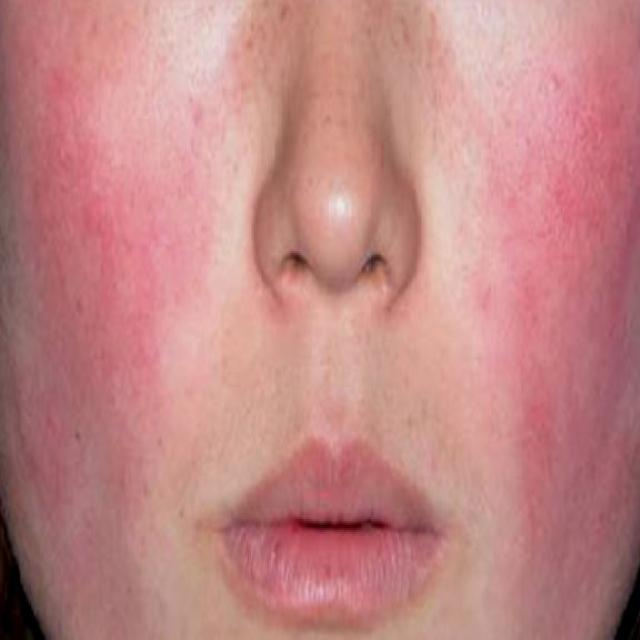Rosacea: (13, 31, 222, 578), (480, 20, 636, 626)
